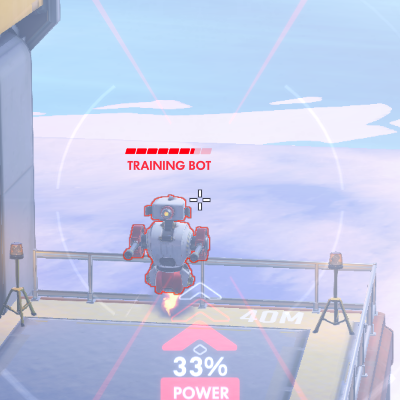hpbar: (125, 147, 212, 155)
